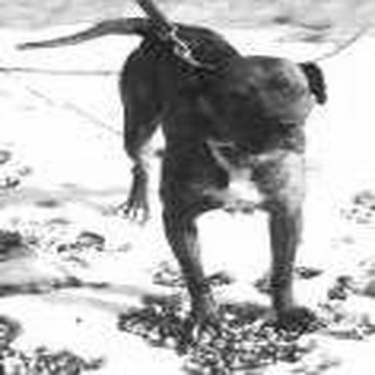dog: (1, 5, 339, 352)
